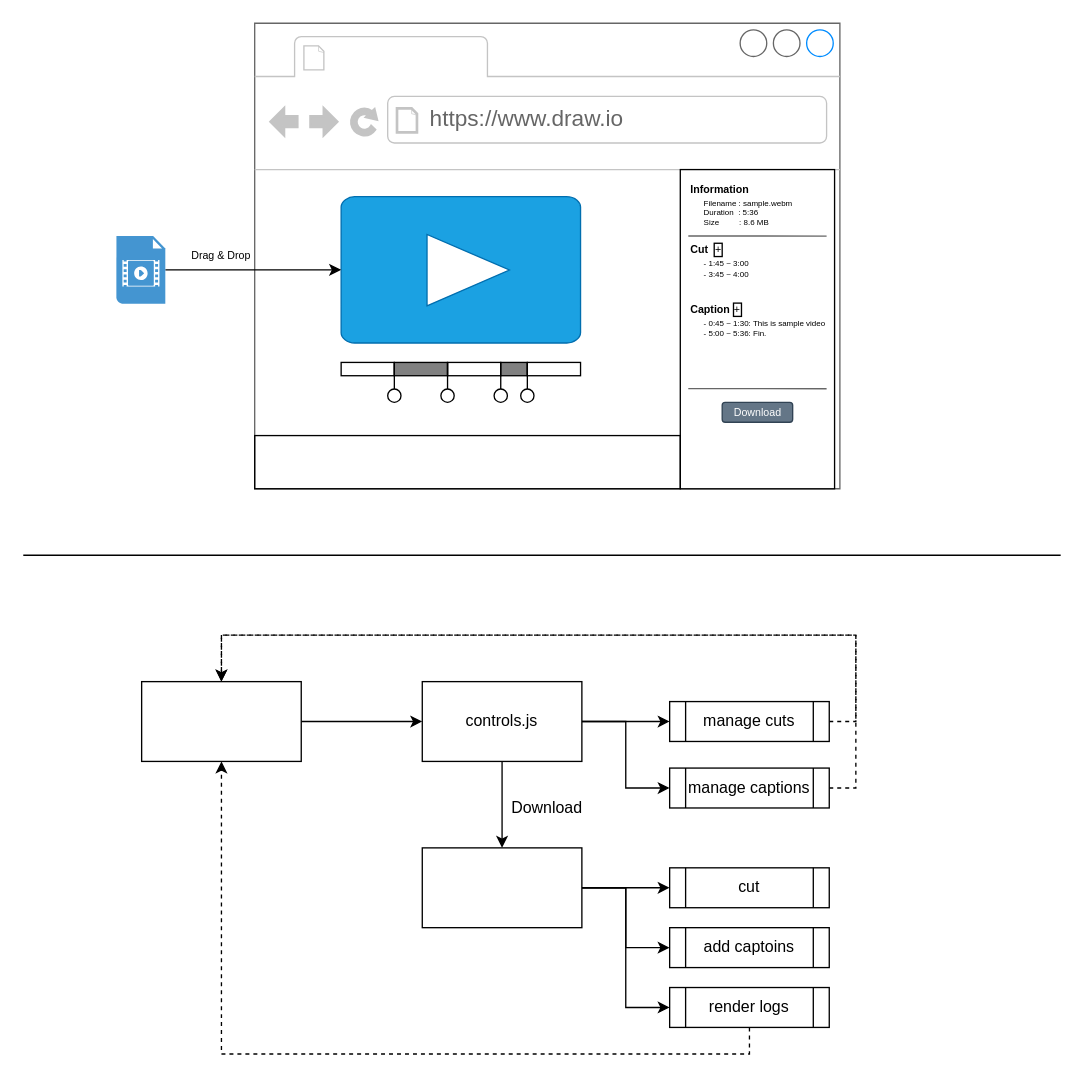
The diagram is 1085 pixels wide and 1088 high, and some of its shapes have lost their labels. Each missing label, with the centre of its shape:
"ffmpeg.js" goes at point 501,887.
"ffmpeg.wasm log" goes at point 466,461.
"Index.html" goes at point 220,720.
"Page 1" goes at point 407,56.
